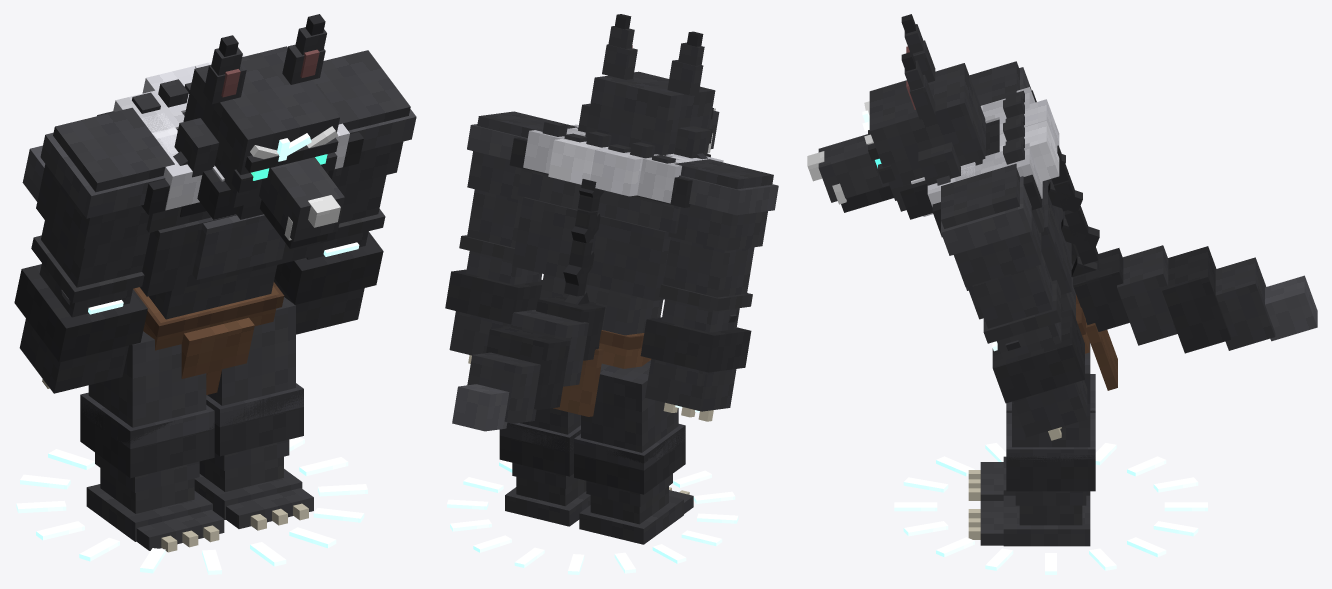
Rendered from lycan_base_evo3.glb.
The picture shows the model from 3 angles, left to right: view 1: azimuth 30°, elevation 25°; view 2: azimuth 150°, elevation 25°; view 3: azimuth 270°, elevation 25°; orthographic projection. The views are drawn at different scales.
Visible parts, largest first — view 1: ArmR, Torso, Head, LegR, ArmL, LegL, Root; view 2: Torso, ArmR, LegR, ArmL, Head, LegL, Root; view 3: Torso, ArmL, Head, LegL, Root, ArmR, LegR.
Part boxes in pixels (x1,y1,x2,y2): ArmR: (14, 107, 174, 393); Torso: (22, 54, 363, 394); Head: (173, 14, 344, 248); LegR: (80, 331, 224, 550); ArmL: (274, 50, 416, 334); LegL: (194, 297, 313, 528); Root: (16, 437, 367, 574); Torso: (452, 121, 723, 431); ArmR: (640, 159, 778, 421); LegR: (574, 360, 693, 544); ArmL: (445, 111, 577, 363); Head: (577, 14, 719, 159); LegL: (499, 408, 590, 526); Root: (447, 460, 738, 574); Torso: (911, 87, 1317, 390); ArmL: (941, 163, 1087, 440); Head: (807, 14, 999, 219); LegL: (980, 342, 1095, 546); Root: (894, 443, 1207, 574); ArmR: (969, 61, 1079, 265); LegR: (980, 374, 1095, 500).
Bounding box in the file's own units: 1.24 × 1.94 × 1.89.
28 materials, 28 textured.
